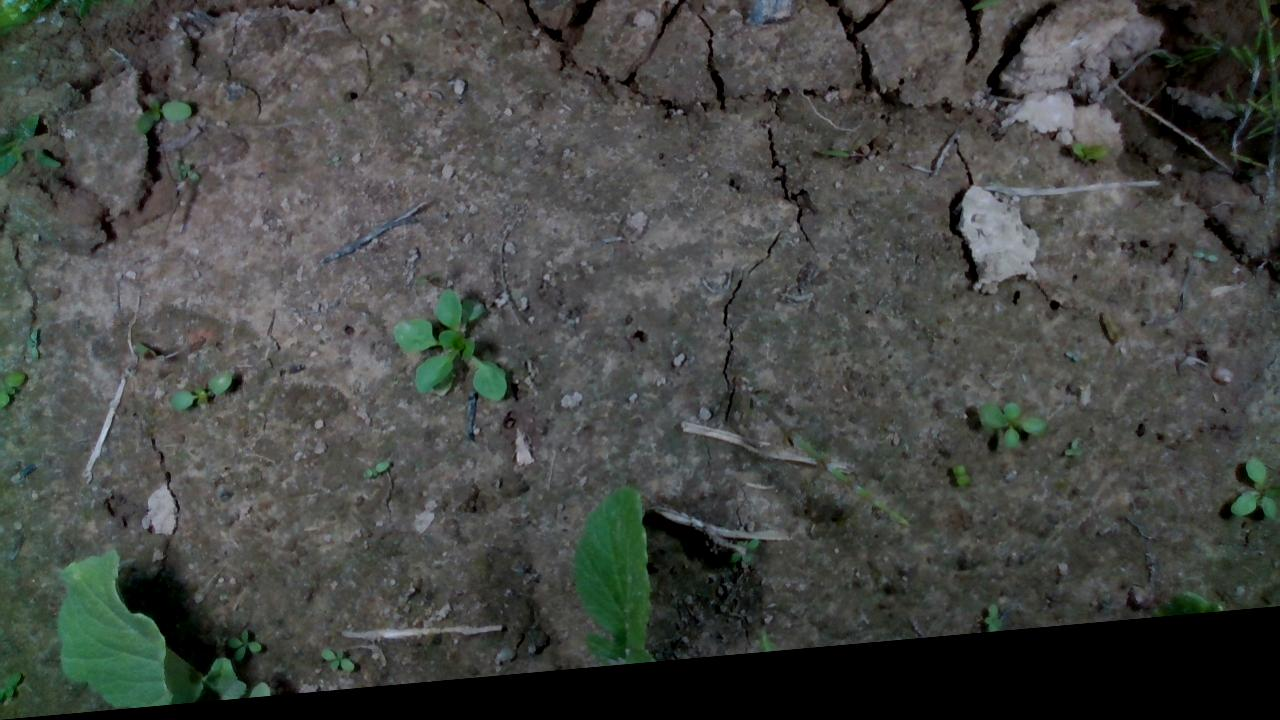weed: (976, 414, 1048, 472), (1224, 476, 1277, 547), (169, 373, 233, 415), (133, 100, 192, 138), (317, 650, 355, 682), (727, 550, 758, 580), (360, 465, 390, 487), (1190, 270, 1218, 288), (1062, 456, 1083, 478), (952, 480, 970, 505)
